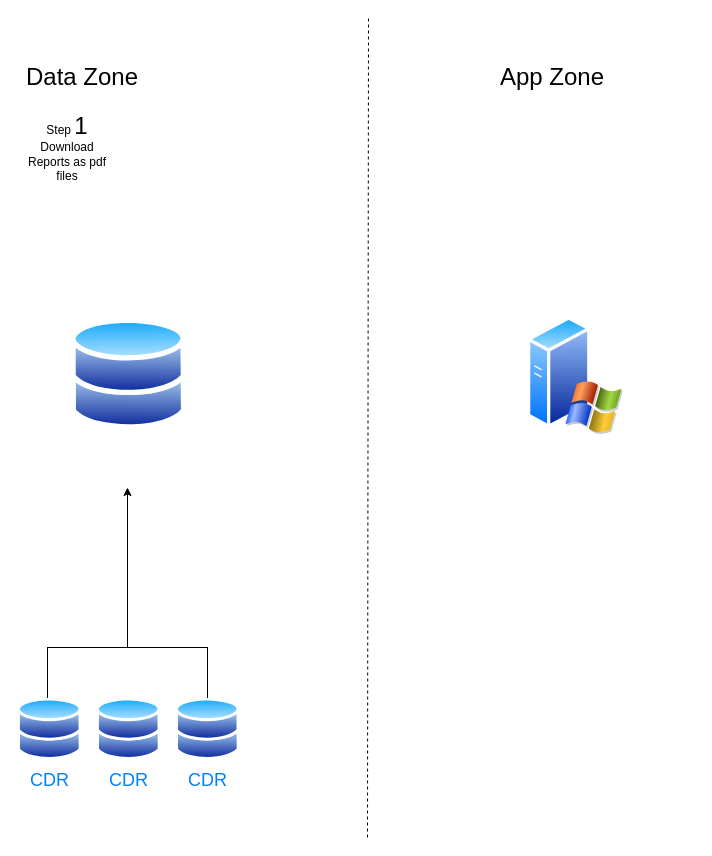
Some shapes in this 712 by 856 pixel diagram are drawn without their labels. Each missing label, with the box of its shape:
DWH: (70, 317, 186, 430)
Report Server SSRS: (527, 315, 623, 435)
